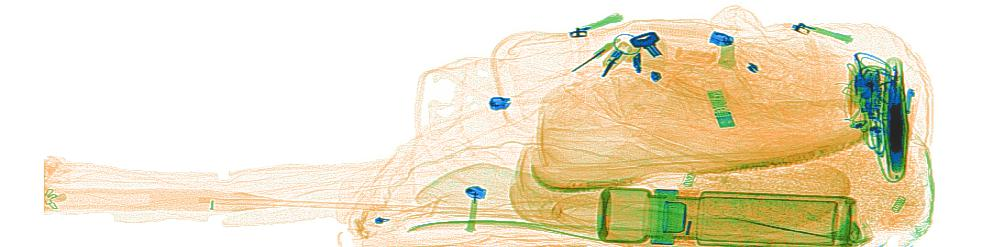USBFlashDisk: (706, 88, 737, 129)
